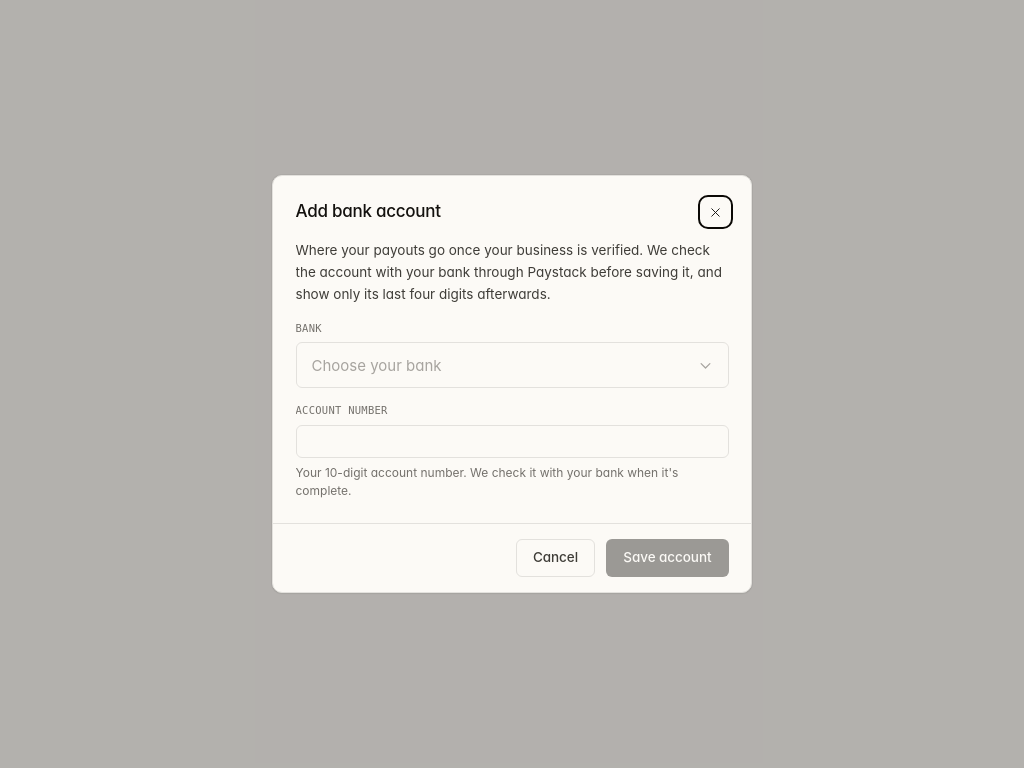
Test: AddBankAccountModal › the daily limit shows the API's words (try again tomorrow) and offers no retry
Click the button "Choose your bank" at (377, 365), box [296, 342, 728, 388]
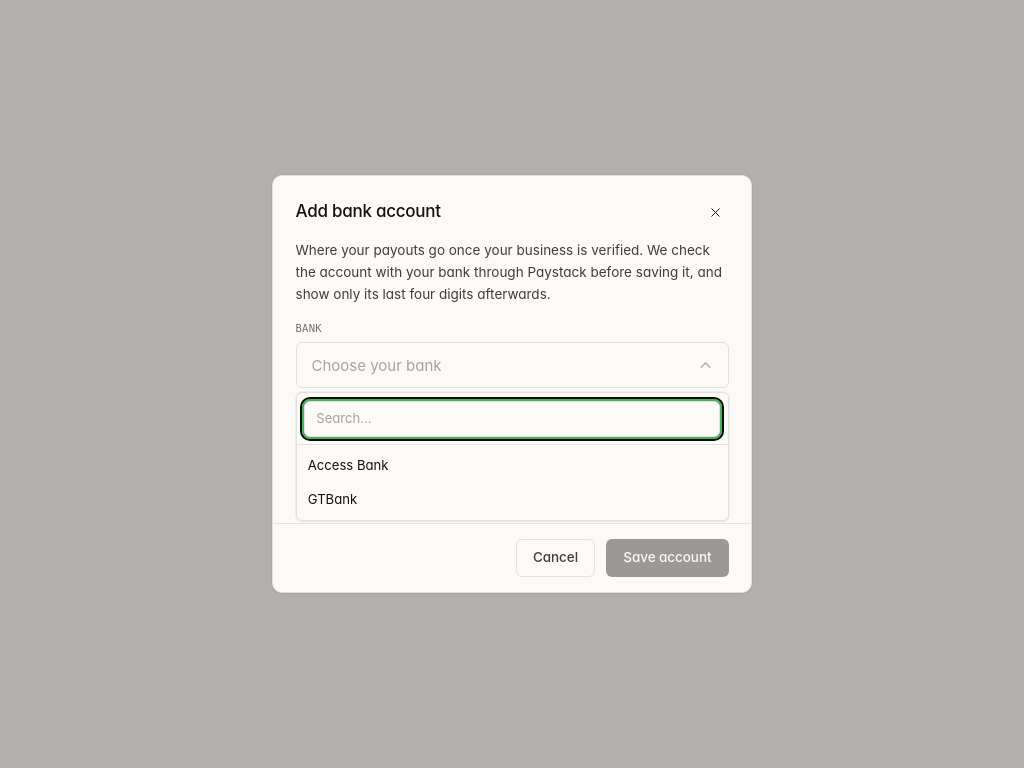
Press the mouse on the list item "Access Bank" at (348, 465), box [308, 457, 389, 473]
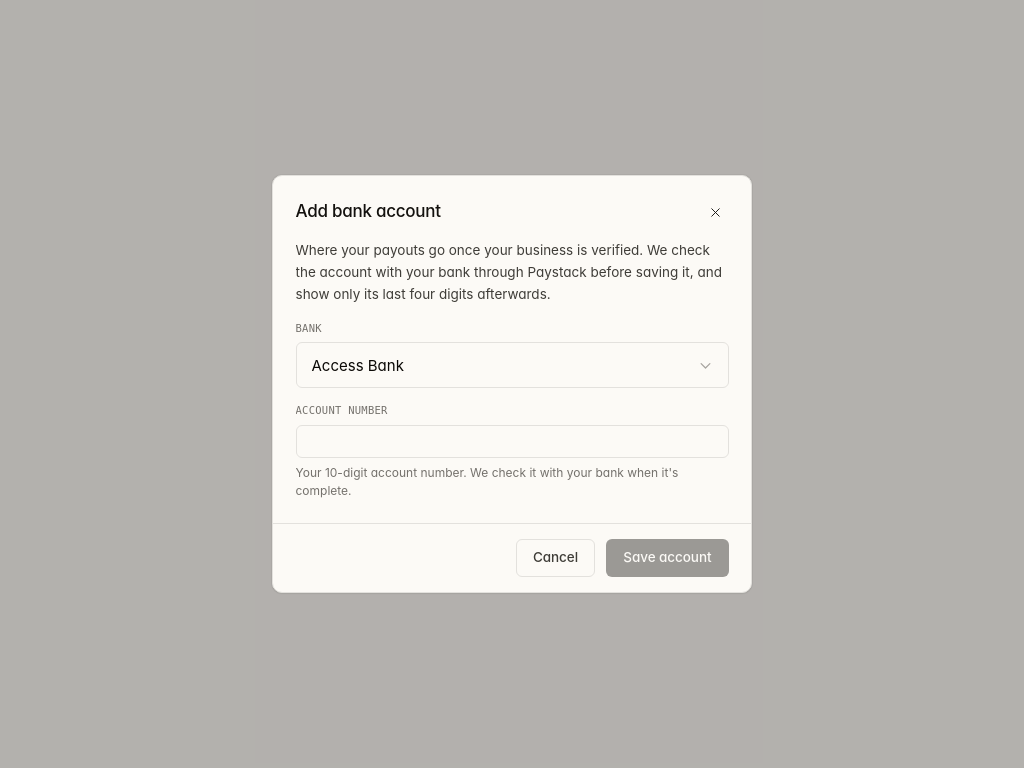
Type "0123456789" into the field labelled "Account number" at (512, 442), box [296, 425, 728, 458]
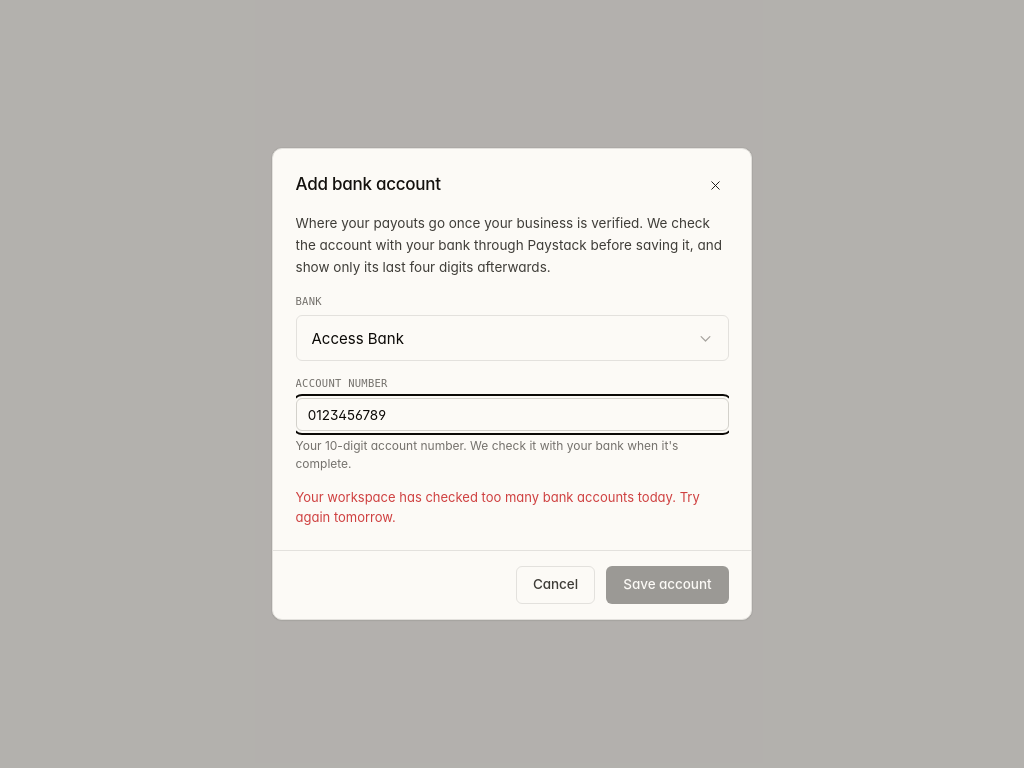
Expected: the button "Save account" is disabled, [606, 566, 728, 604]
Result: the message reads "Your workspace has checked too many bank accounts today. Try again tomorrow." at [296, 489, 700, 524]
